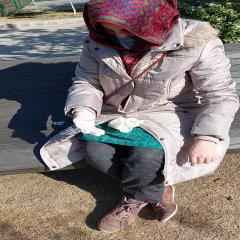gloved: (72, 109, 105, 136)
not-gloved: (191, 140, 220, 166)
